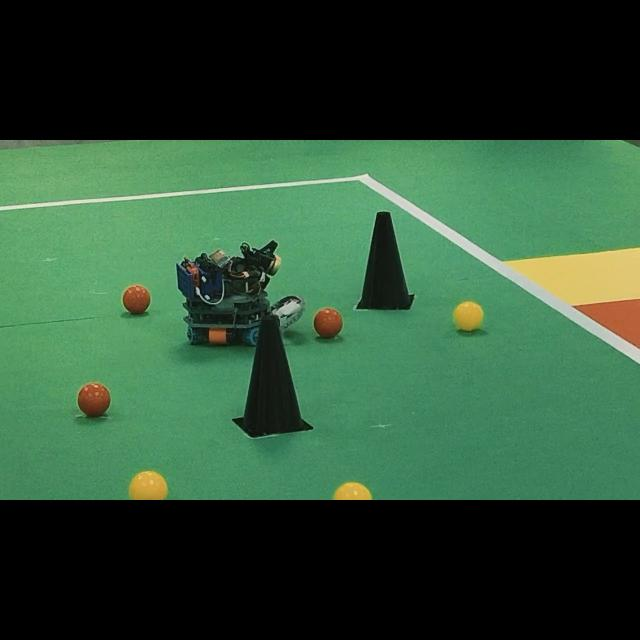ball: (129, 471, 168, 500), (79, 382, 110, 416), (312, 308, 342, 338), (454, 301, 484, 331), (122, 285, 150, 314), (332, 482, 372, 500)
goal: (505, 248, 640, 304), (575, 299, 640, 348)
